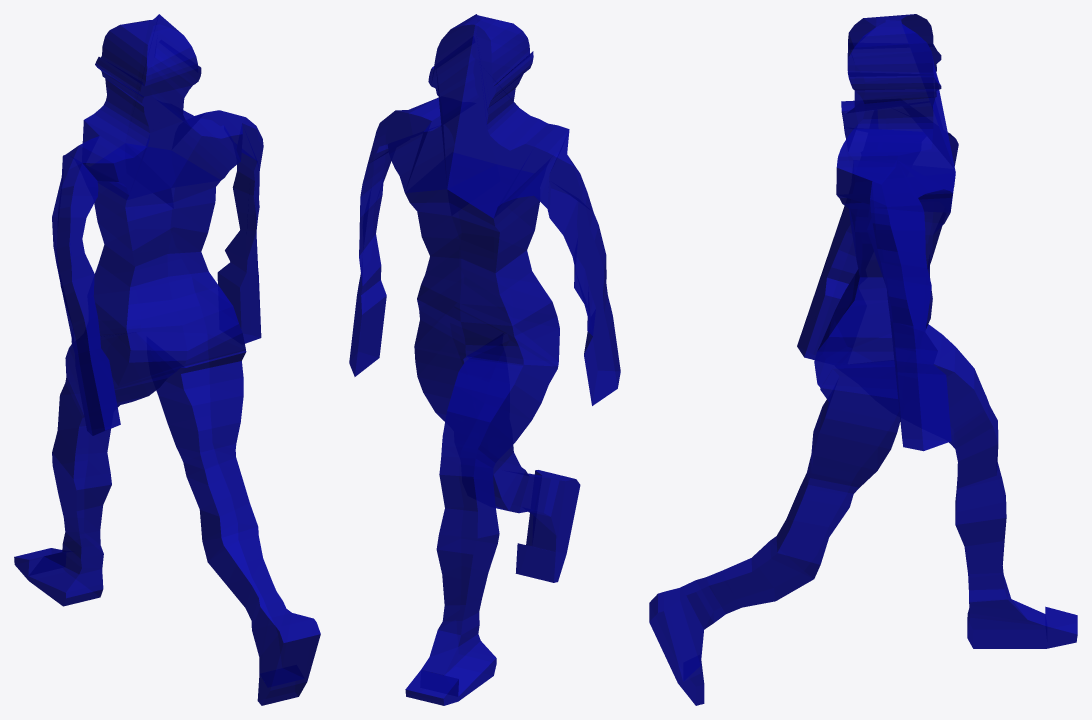
The model's file is woman_000031.obj.
3 views of the same model, side by side, from view 1: azimuth 30°, elevation 25°; view 2: azimuth 150°, elevation 25°; view 3: azimuth 270°, elevation 25° (orthographic). The views are drawn at different scales.
Parts seen in each view (by area): view 1: Cube_Cube.001; view 2: Cube_Cube.001; view 3: Cube_Cube.001.
Boxes of the visible parts, bbox=[...] form: Cube_Cube.001: bbox=[14, 14, 320, 705]; Cube_Cube.001: bbox=[349, 14, 620, 705]; Cube_Cube.001: bbox=[649, 14, 1077, 705].
Bounding box in the file's own units: 3.63 × 9.75 × 5.75.
